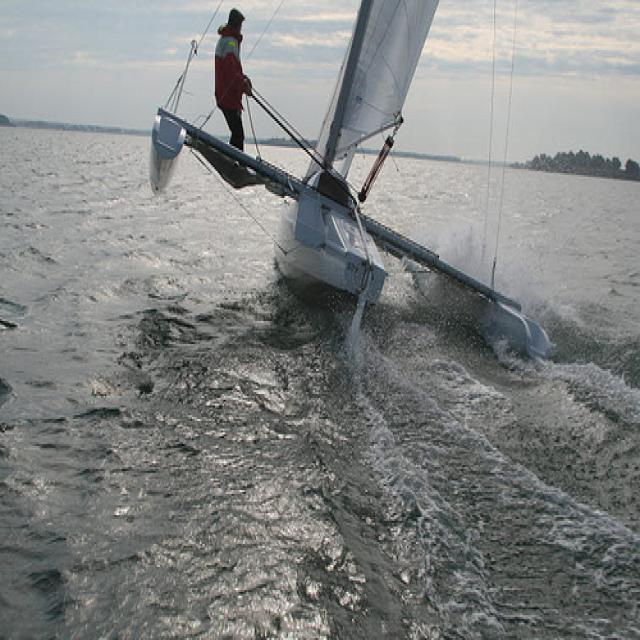Ship: (145, 1, 567, 372)
